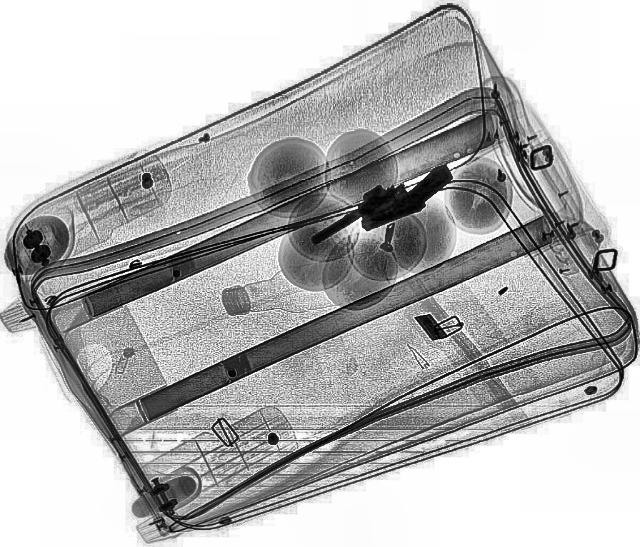Gun: (302, 174, 414, 252), (346, 163, 464, 229)
